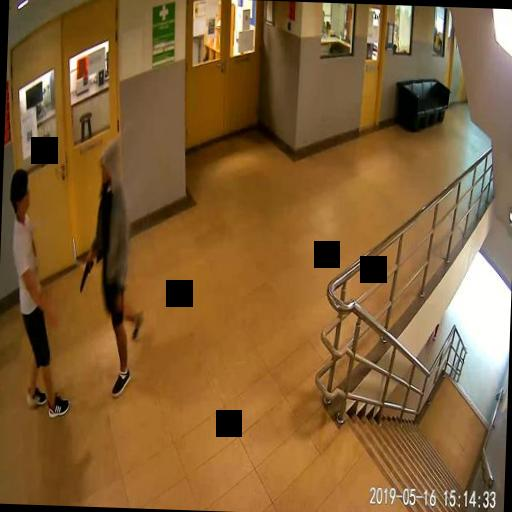Handgun: (79, 255, 93, 291)
